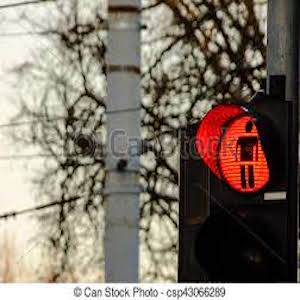red: (225, 118, 264, 188)
